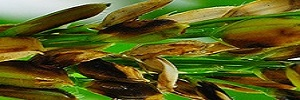RiceSheathBrownRot: (8, 1, 300, 100)
